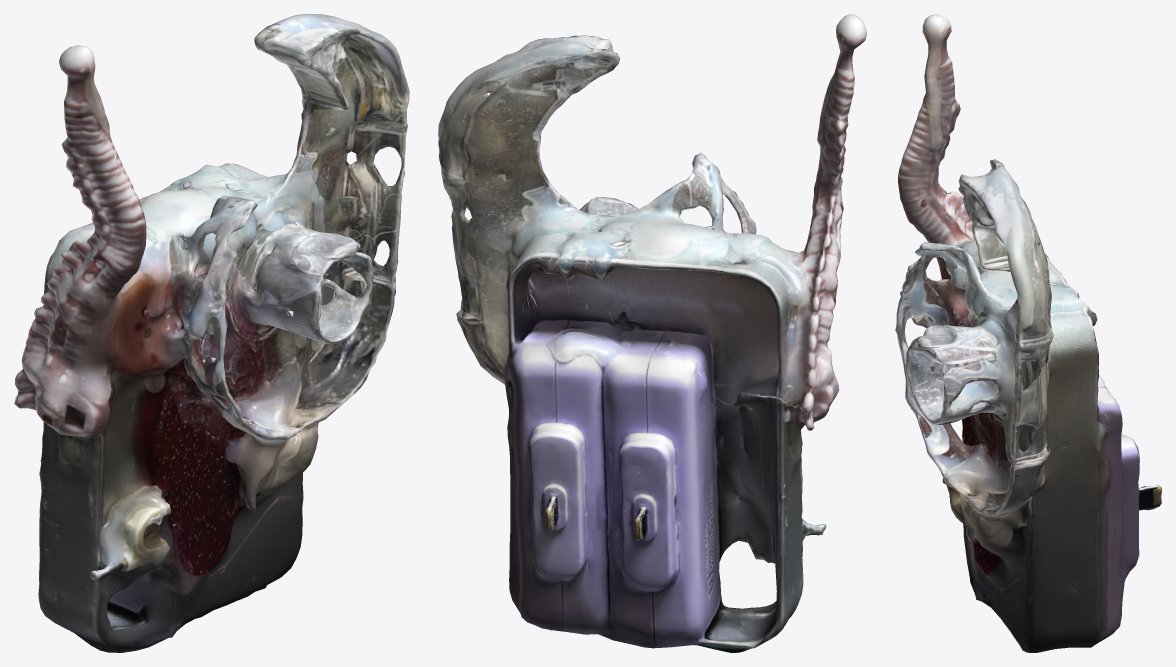
3 views of the same model, side by side, from view 1: azimuth 30°, elevation 25°; view 2: azimuth 150°, elevation 25°; view 3: azimuth 270°, elevation 25° (orthographic). The views are drawn at different scales.
Parts seen in each view (by area): view 1: P17; view 2: P17; view 3: P17.
Part boxes in pixels (box(x1,y1,x2,y2)): P17: box(14, 14, 409, 652); P17: box(438, 14, 866, 652); P17: box(895, 14, 1161, 652).
Size of the model in its own units: 0.4327 by 0.6756 by 0.298.
1 material, 1 textured.
